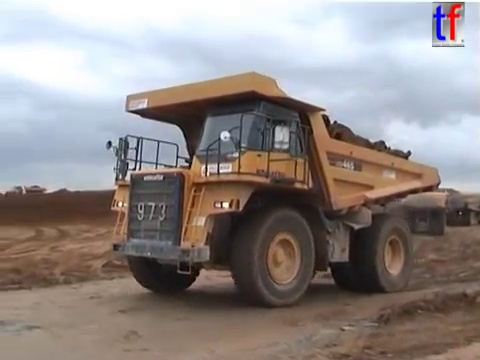truck: (103, 68, 444, 310), (398, 187, 449, 237), (439, 190, 480, 227)
